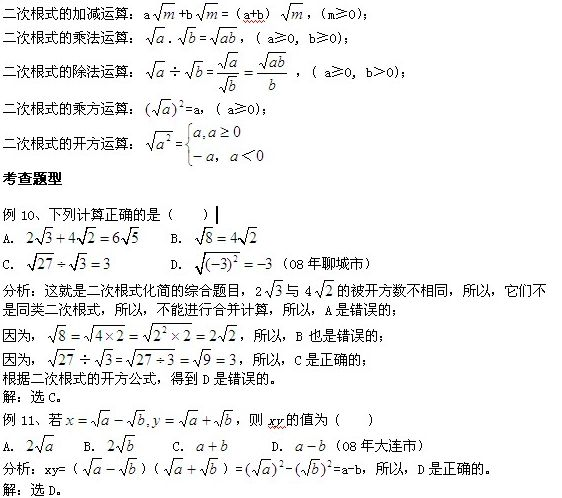division: (255, 71, 290, 78), (214, 69, 240, 78)
sqrt: (142, 319, 193, 344), (128, 346, 179, 371), (198, 251, 244, 276), (85, 321, 122, 344), (147, 128, 171, 155), (253, 453, 275, 478), (50, 348, 76, 369), (163, 455, 185, 479), (261, 49, 287, 69), (316, 275, 335, 302), (48, 322, 68, 345), (192, 346, 211, 370), (153, 97, 173, 119), (239, 225, 259, 247), (146, 58, 165, 81), (37, 433, 55, 457), (97, 346, 114, 371), (200, 1, 219, 23), (212, 23, 231, 45), (303, 457, 325, 476), (200, 458, 222, 477), (279, 2, 302, 20), (180, 25, 198, 48), (266, 278, 284, 301), (90, 407, 110, 427), (70, 251, 89, 272), (87, 456, 105, 478), (186, 58, 203, 81), (28, 250, 47, 270), (126, 408, 146, 427), (157, 2, 174, 24), (150, 24, 167, 46), (182, 407, 198, 430), (121, 434, 139, 453), (218, 323, 234, 344), (37, 222, 52, 244), (122, 456, 137, 477), (82, 225, 96, 247), (220, 51, 238, 68), (123, 228, 141, 245), (217, 409, 236, 425), (220, 75, 235, 95)
square: (274, 458, 287, 471), (177, 96, 184, 109), (231, 254, 239, 265), (159, 325, 168, 334), (166, 133, 172, 143), (328, 459, 334, 468)
